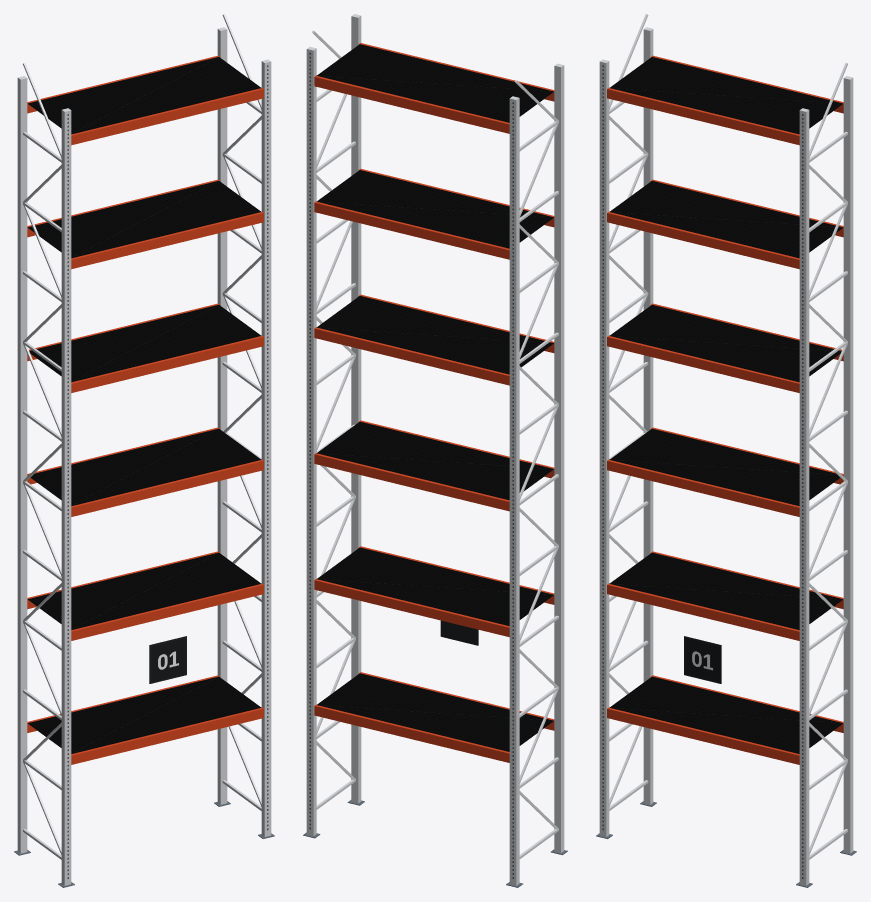
File: rack_bay_10m.glb
3 renders of one model, left to right at view 1: azimuth 30°, elevation 25°; view 2: azimuth 150°, elevation 25°; view 3: azimuth 330°, elevation 25°, orthographic.
Parts seen in each view (by area): view 1: Rack_Frame_wire_mesh_black, Rack_Frame_rack_white, Rack_Frame_orange_red, Rack_Frame_black_paint, Bay_Sign; view 2: Rack_Frame_wire_mesh_black, Rack_Frame_rack_white, Rack_Frame_orange_red, Rack_Frame_black_paint, Bay_Sign_black_paint; view 3: Rack_Frame_wire_mesh_black, Rack_Frame_rack_white, Rack_Frame_orange_red, Rack_Frame_black_paint, Bay_Sign.
Part boxes in pixels (left/top/right/bottom): Rack_Frame_wire_mesh_black: left=27, top=57, right=261, bottom=753; Rack_Frame_rack_white: left=17, top=14, right=271, bottom=885; Rack_Frame_orange_red: left=27, top=55, right=263, bottom=764; Rack_Frame_black_paint: left=67, top=65, right=268, bottom=878; Bay_Sign: left=151, top=638, right=185, bottom=682; Rack_Frame_wire_mesh_black: left=316, top=44, right=554, bottom=751; Rack_Frame_rack_white: left=306, top=14, right=564, bottom=885; Rack_Frame_orange_red: left=314, top=43, right=554, bottom=762; Rack_Frame_black_paint: left=309, top=53, right=513, bottom=878; Bay_Sign_black_paint: left=440, top=620, right=478, bottom=645; Rack_Frame_wire_mesh_black: left=609, top=57, right=843, bottom=753; Rack_Frame_rack_white: left=599, top=14, right=853, bottom=885; Rack_Frame_orange_red: left=607, top=55, right=843, bottom=764; Rack_Frame_black_paint: left=602, top=65, right=803, bottom=878; Bay_Sign: left=685, top=638, right=719, bottom=682.
Bounding box in the file's own units: 2.86 × 10.21 × 1.15.
Materials: 6 (2 with a texture image).
